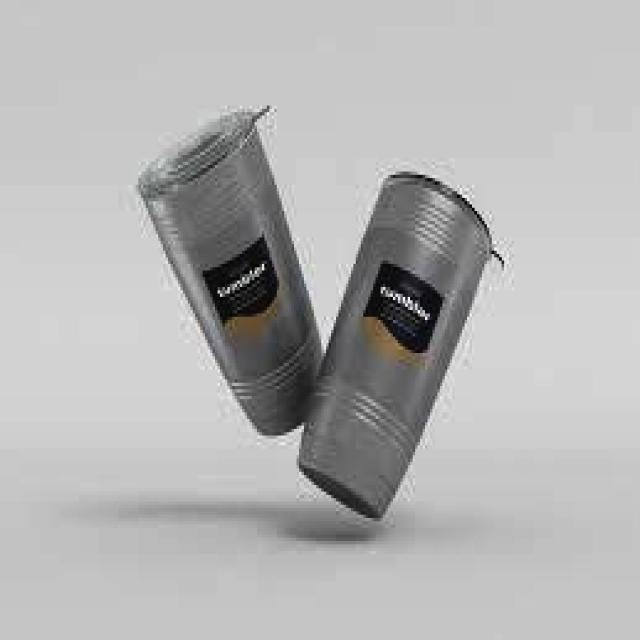bottle: (293, 158, 508, 524), (130, 96, 332, 438)
